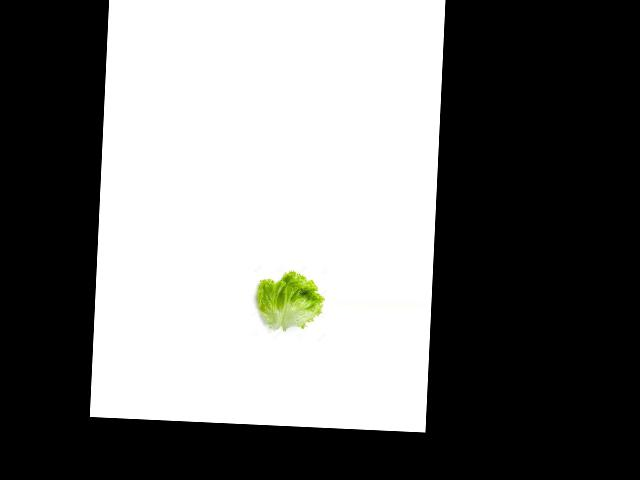lettuce: (249, 271, 327, 334)
